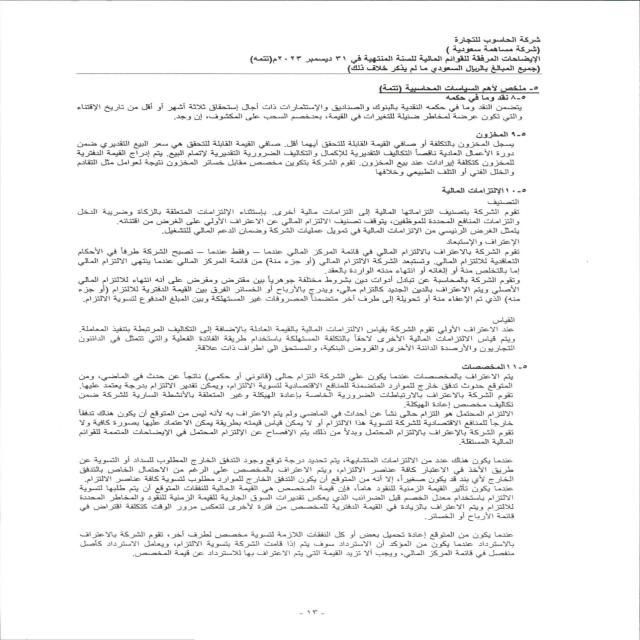notes: (236, 53, 542, 63)
text: (32, 80, 554, 564)
